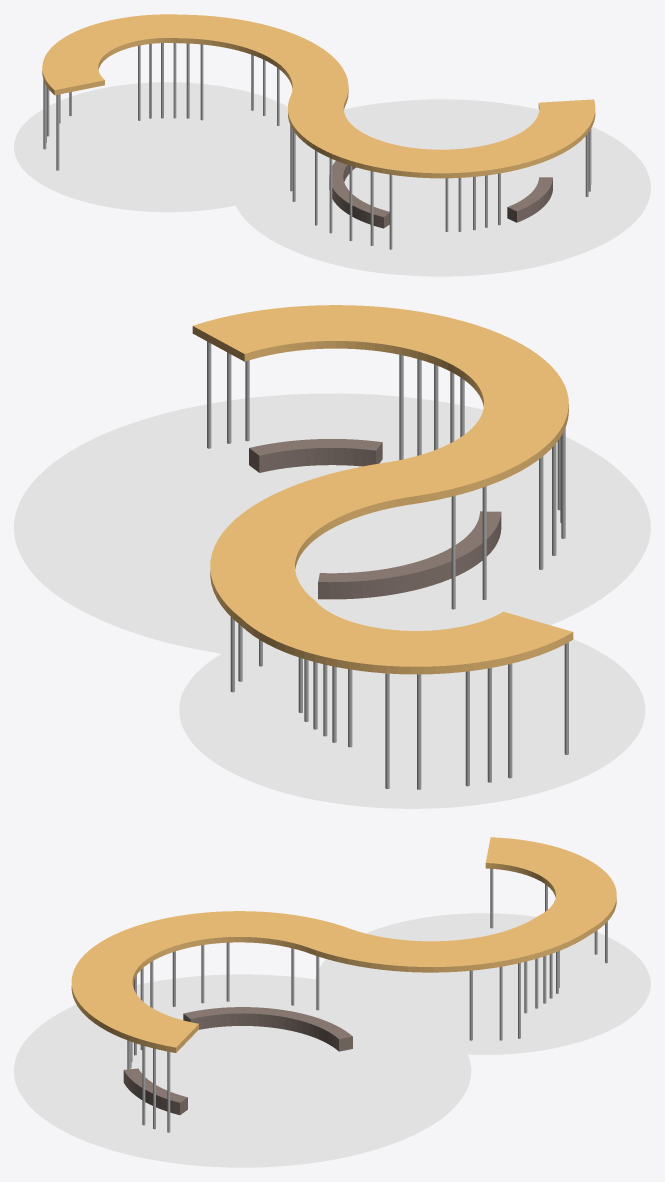
The model's file is 圆摆件.fbx.
3 renders of one model, top to bottom at view 1: azimuth 30°, elevation 25°; view 2: azimuth 150°, elevation 25°; view 3: azimuth 270°, elevation 25°, orthographic. The views are drawn at different scales.
Parts seen in each view (by area): view 1: Mesh7774; view 2: Mesh7774; view 3: Mesh7774.
Part boxes in pixels (x1=…): Mesh7774: x1=14, y1=14, x2=650, y2=276; Mesh7774: x1=14, y1=305, x2=650, y2=808; Mesh7774: x1=14, y1=837, x2=650, y2=1167.
Bounding box in the file's own units: 1307 × 212 × 1383.
